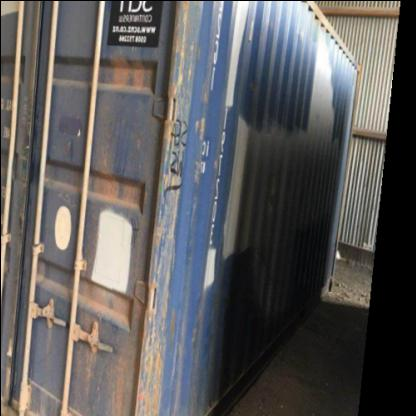Damage: (133, 272, 174, 392), (168, 1, 205, 88), (72, 272, 126, 330), (155, 104, 187, 200), (90, 164, 149, 210), (100, 51, 159, 92)
